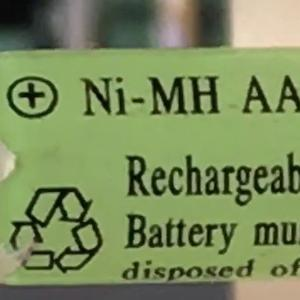keyword: (71, 66, 229, 126)
